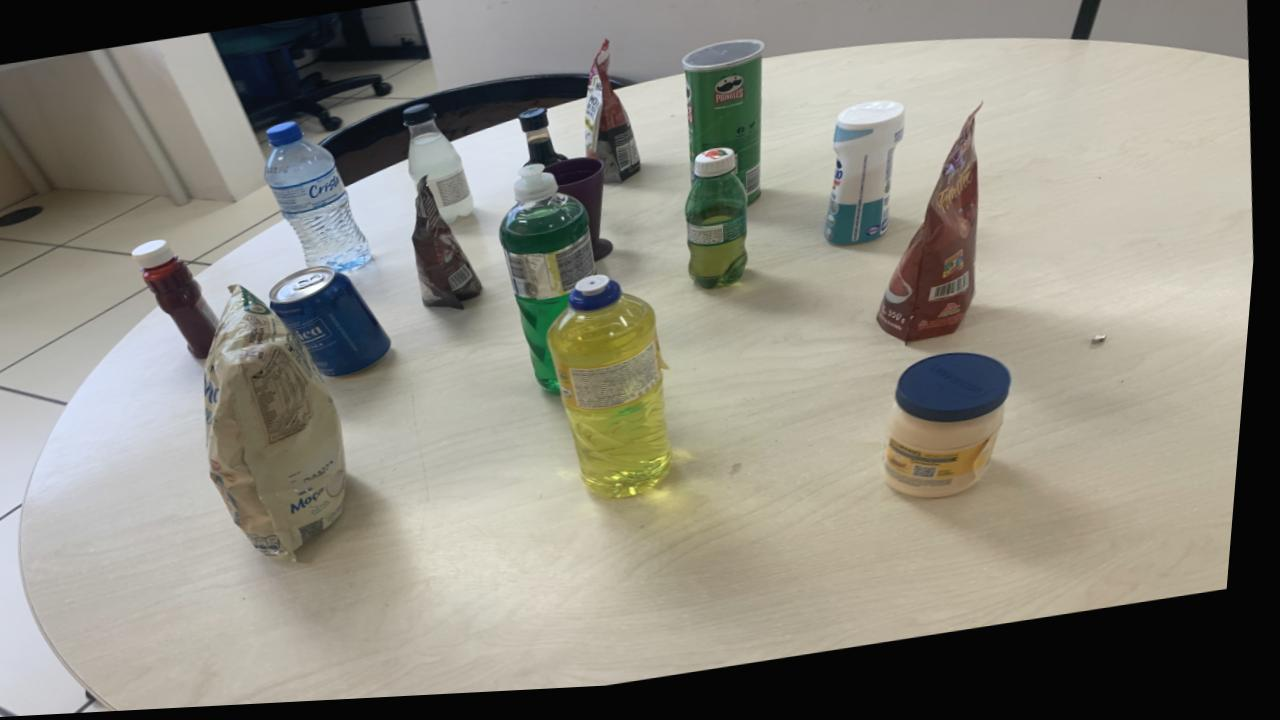Cleaner-Cleanup_Items: (829, 110, 908, 255)
Coffee-Pantry_Items: (417, 182, 487, 315)
Detergent-Cleanup_Items: (554, 281, 681, 505), (504, 169, 600, 400)
English_Sauce-Pantry_Items: (520, 113, 570, 172)
Flakes-Snacks: (210, 287, 354, 563)
Guarana-Drinks: (690, 155, 753, 296)
Ketchup-Pantry_Items: (138, 241, 224, 361)
Mayonnaise-Pantry_Items: (892, 363, 1018, 508)
Pringles-Snacks: (684, 46, 767, 211)
Soda-Drinks: (406, 108, 478, 229)
Tomato_Sauce-Pantry_Items: (883, 119, 983, 353), (588, 46, 643, 189)
Tonic-Drinks: (275, 269, 396, 380)
Water_Bottle-Drinks: (268, 125, 377, 276)
